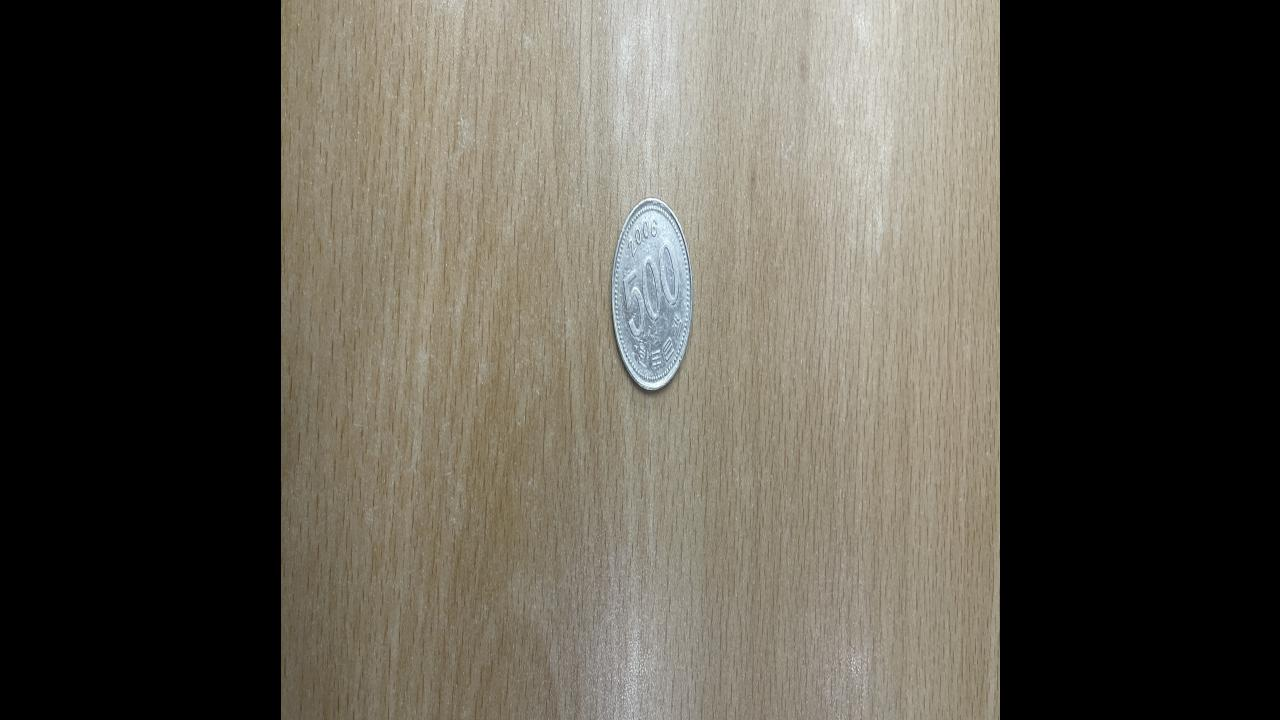coin: (606, 189, 694, 402)
